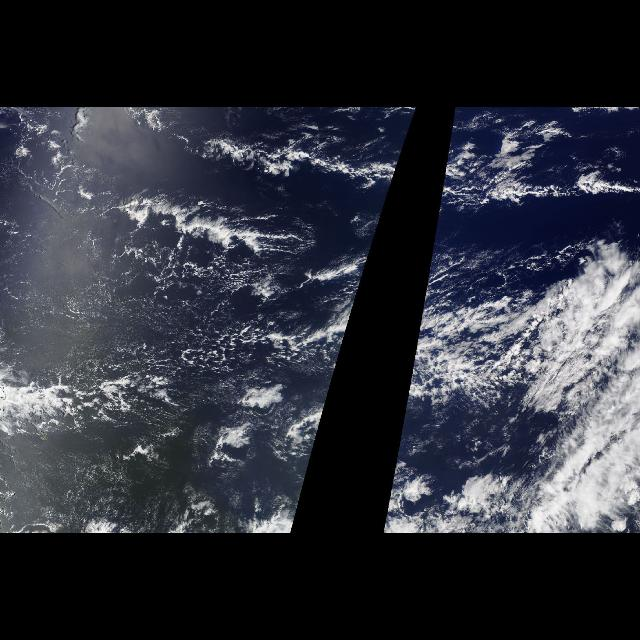Fish: (90, 110, 417, 268), (434, 110, 638, 230)
Gravel: (2, 178, 340, 438)
Sugar: (0, 204, 304, 530)
